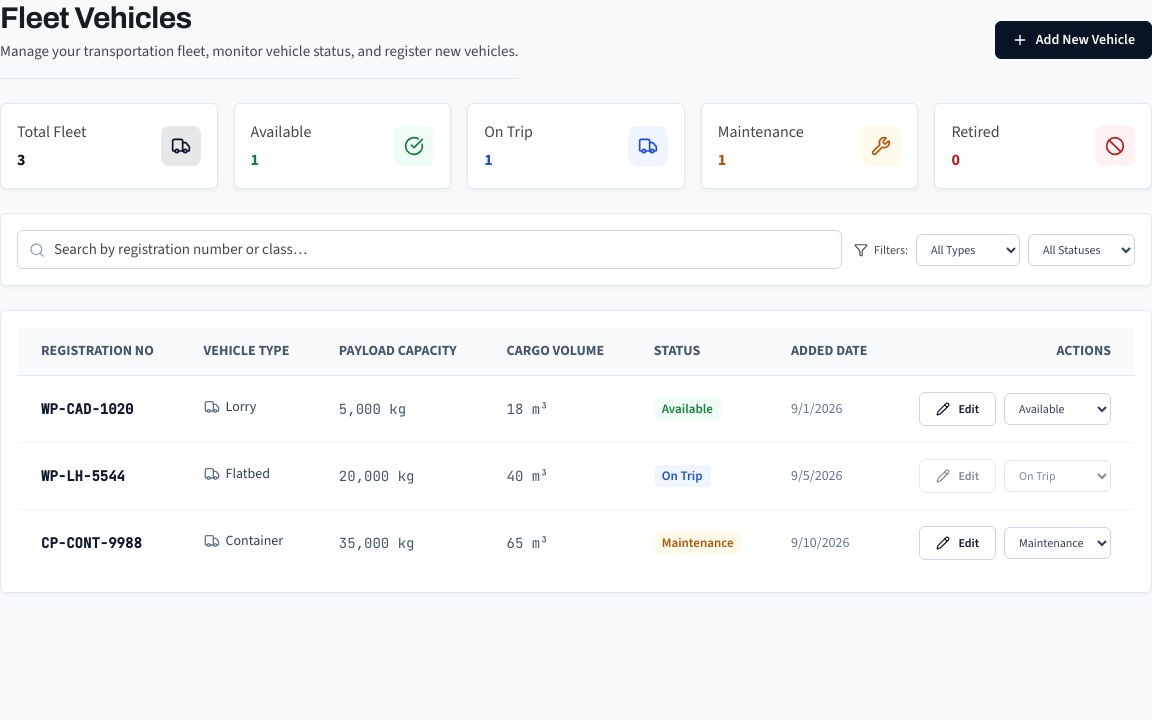
Scenario: FleetVehiclesPage › shows a registration conflict on the edit field
Click the button "Edit" in the row of "WP-CAD-1020": (958, 409) left=919, top=392, right=996, bottom=426
(page scrolled)
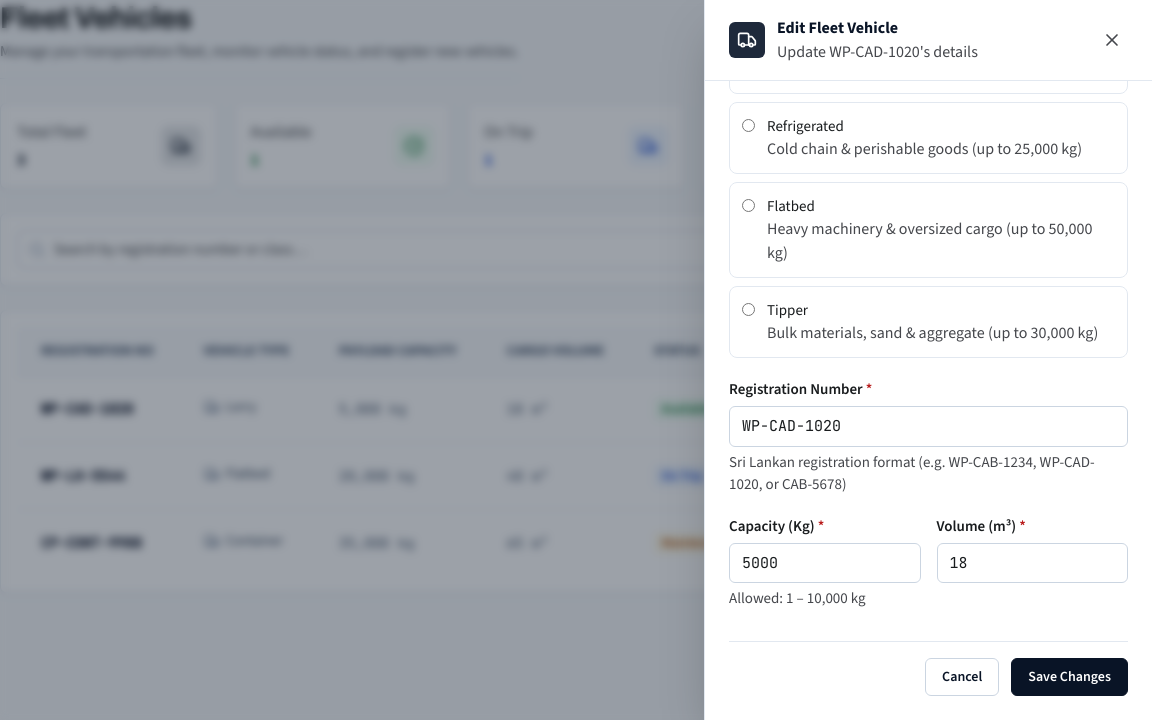
Click the button "Save Changes": (1070, 677) left=1011, top=658, right=1128, bottom=696
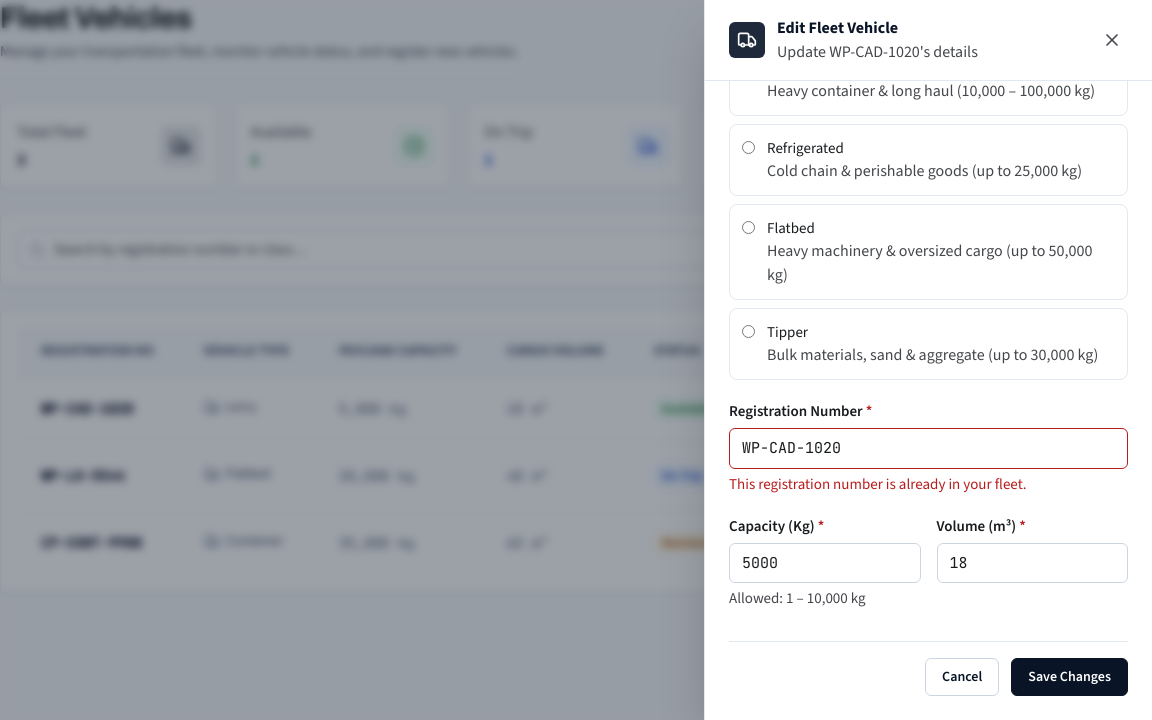
Check: the text "This registration number is already in your fleet." is shown, box left=729, top=474, right=1027, bottom=494
